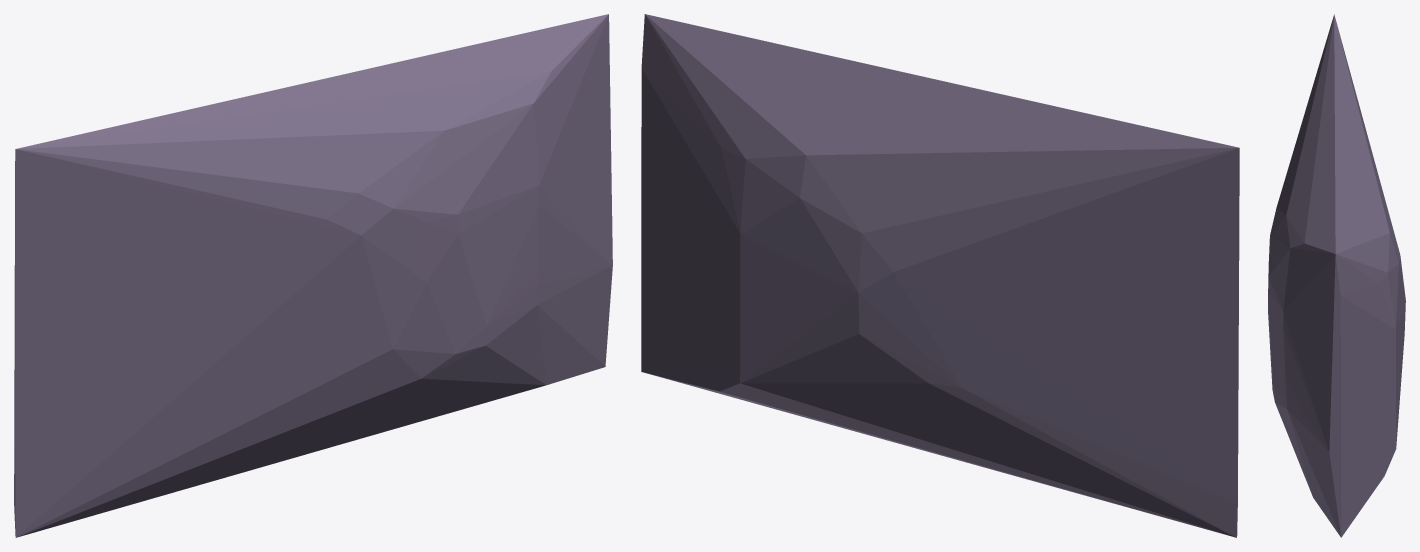
File: food_processed_chips_e01.glb
3 views of the same model, side by side, from view 1: azimuth 30°, elevation 25°; view 2: azimuth 150°, elevation 25°; view 3: azimuth 270°, elevation 25° (orthographic). The views are drawn at different scales.
Parts seen in each view (by area): view 1: geometry_0; view 2: geometry_0; view 3: geometry_0.
Part boxes in pixels (box(x1,y1,x2,y2)): geometry_0: box(14, 14, 612, 537); geometry_0: box(641, 14, 1239, 537); geometry_0: box(1268, 14, 1405, 537).
Bounding box in the file's own units: 0.4794 × 0.3005 × 0.1206.
